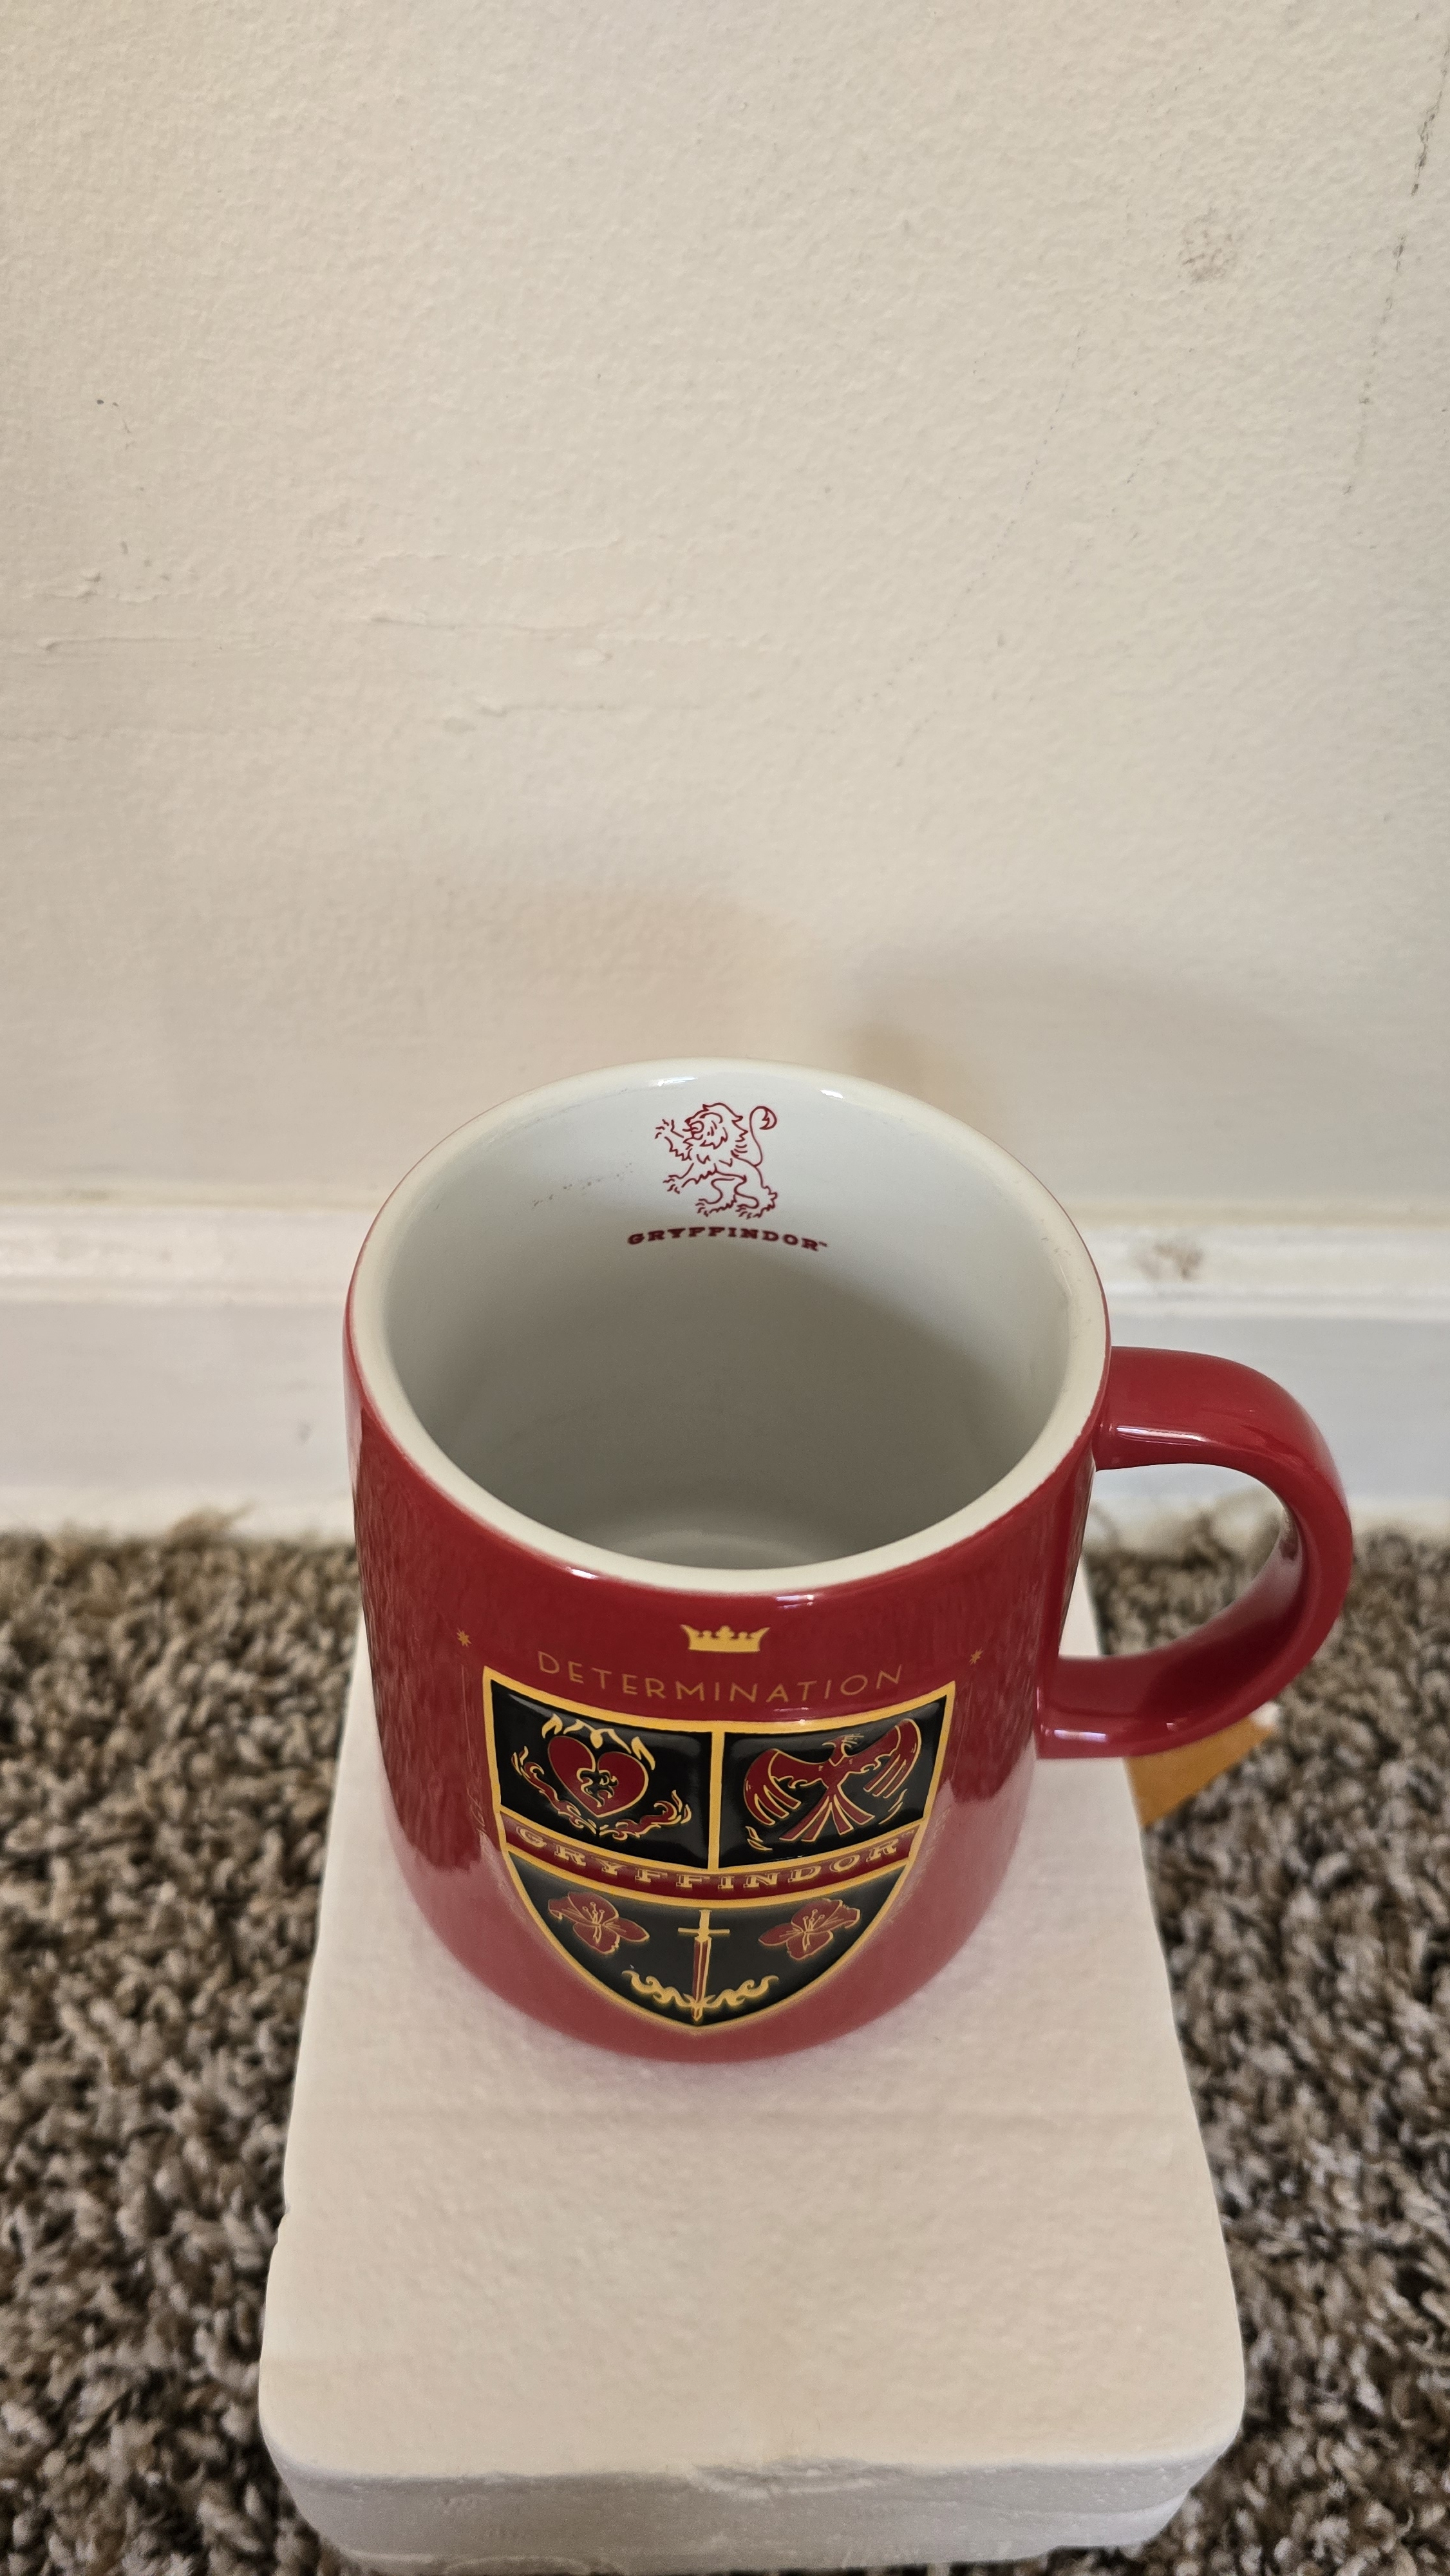mug: (288, 971, 1392, 2074)
